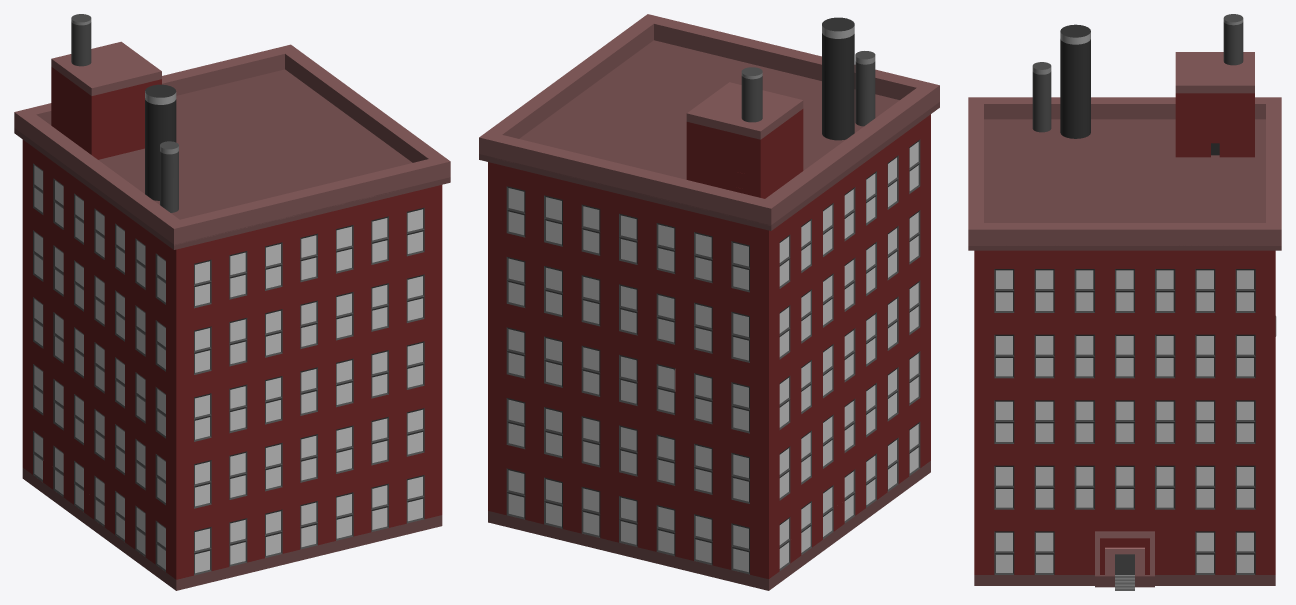
The model's file is Skyscraper Building 3 colored.fbx.
3 views of the same model, side by side, from view 1: azimuth 30°, elevation 25°; view 2: azimuth 150°, elevation 25°; view 3: azimuth 270°, elevation 25° (orthographic). The views are drawn at different scales.
Parts seen in each view (by area): view 1: Building_5, pCube2, pCube3, pCube6, pCube5, pCylinder1, pCylinder2, pCylinder3; view 2: Building_5, pCube3, pCube2, pCube6, pCube5, pCylinder1, pCylinder2, pCylinder3; view 3: Building_5, pCube2, pCube3, pCube6, pCube5, pCylinder1, pCylinder2, pCylinder3.
Part boxes in pixels (x1,y1,x2,y2): Building_5: (22,139,442,579); pCube2: (14,69,450,249); pCube3: (14,44,450,245); pCube6: (51,41,161,159); pCube5: (22,468,442,590); pCylinder1: (145,84,176,200); pCylinder2: (160,141,178,212); pCylinder3: (71,14,91,66); Building_5: (488,114,930,578); pCube3: (479,14,939,225); pCube2: (479,40,939,230); pCube6: (686,82,803,198); pCube5: (488,461,930,590); pCylinder1: (822,17,854,140); pCylinder2: (855,51,875,126); pCylinder3: (741,67,762,122); Building_5: (974,250,1276,576); pCube2: (968,119,1281,250); pCube3: (968,97,1281,245); pCube6: (1175,52,1254,157); pCube5: (974,575,1275,590); pCylinder1: (1060,24,1090,138); pCylinder2: (1032,62,1051,132); pCylinder3: (1223,14,1243,65).
Size of the model in its own units: 53 by 83.87 by 52.
